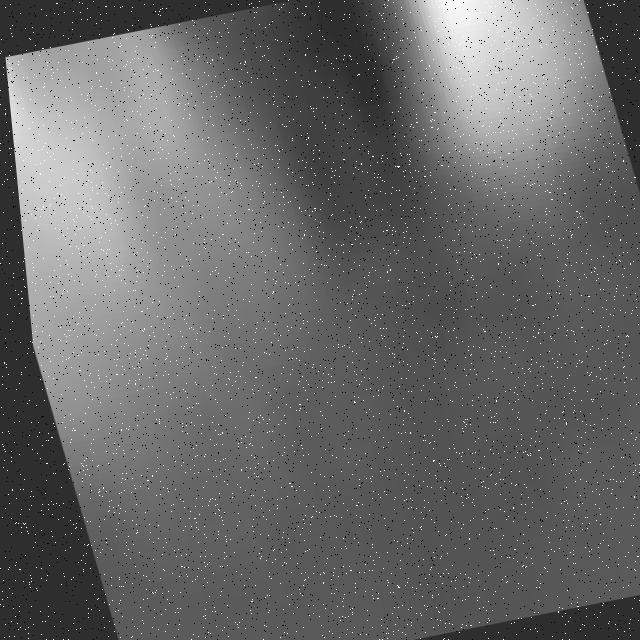person: (3, 30, 249, 451), (353, 1, 640, 303)
